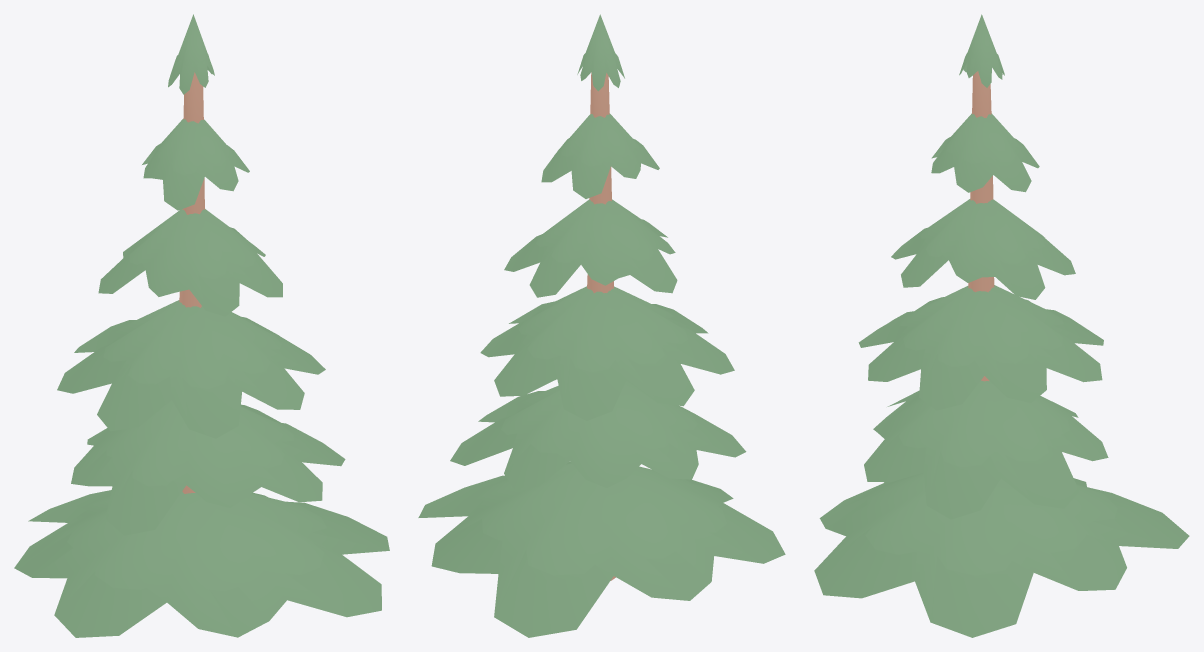
File: Blender_Seedling_2.glb
3 views of the same model, side by side, from view 1: azimuth 30°, elevation 25°; view 2: azimuth 150°, elevation 25°; view 3: azimuth 270°, elevation 25° (orthographic). The views are drawn at different scales.
Visible parts, largest first — view 1: Blender_Seedling_2; view 2: Blender_Seedling_2; view 3: Blender_Seedling_2.
Boxes of the visible parts, x1=… form: Blender_Seedling_2: x1=14, y1=14, x2=389, y2=637; Blender_Seedling_2: x1=418, y1=14, x2=785, y2=637; Blender_Seedling_2: x1=814, y1=14, x2=1189, y2=637.
Size of the model in its own units: 1.44 by 2.35 by 1.43.
